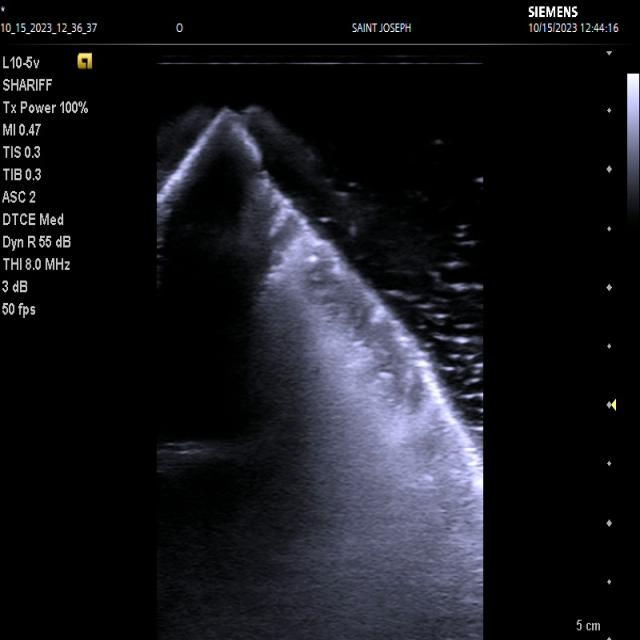tissue: (158, 113, 484, 640)
